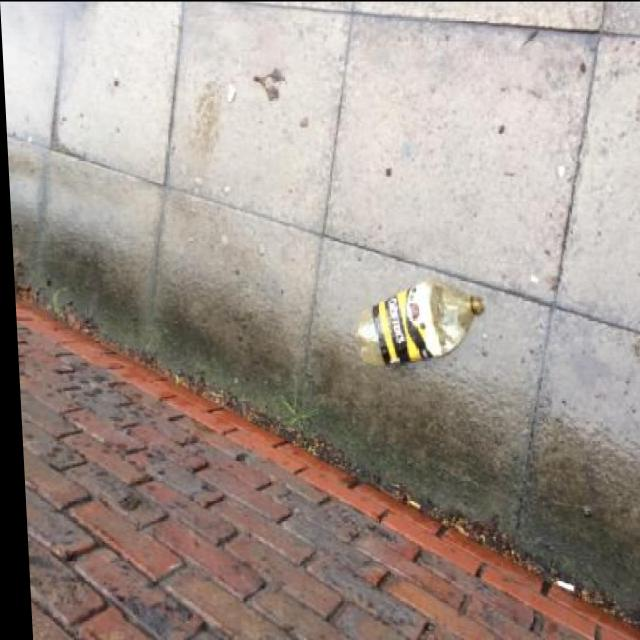plastic: (353, 276, 487, 368)
